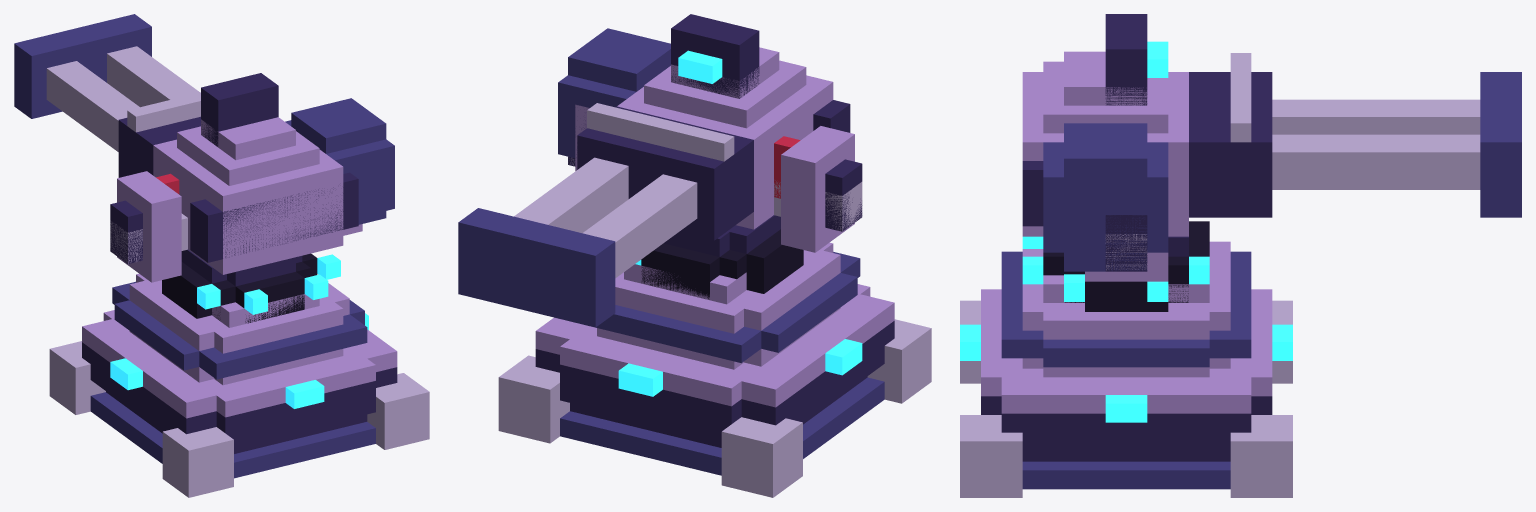
Rendered from autocannon.sm.glb.
3 renders of one model, left to right at view 1: azimuth 30°, elevation 25°; view 2: azimuth 150°, elevation 25°; view 3: azimuth 270°, elevation 25°, orthographic. The views are drawn at different scales.
Visible parts, largest first — view 1: autocannon.sm; view 2: autocannon.sm; view 3: autocannon.sm.
Boxes of the visible parts, <box> form: autocannon.sm: <box>14,14,429,497</box>; autocannon.sm: <box>458,14,931,497</box>; autocannon.sm: <box>960,14,1521,497</box>.
Bounding box in the file's own units: 1 × 1.31 × 1.69.
